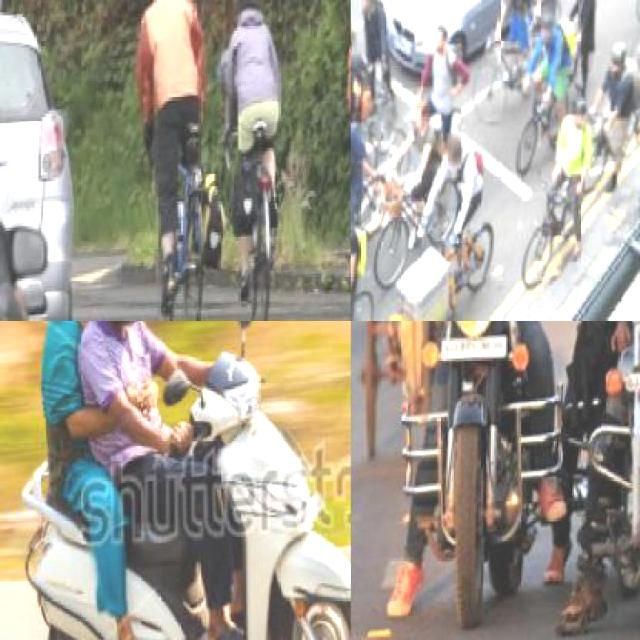With Helmet: (227, 0, 267, 32), (571, 100, 589, 142), (610, 44, 628, 84), (540, 15, 555, 56), (360, 0, 377, 20)
Without Helmet: (428, 17, 455, 65), (447, 138, 462, 173)
